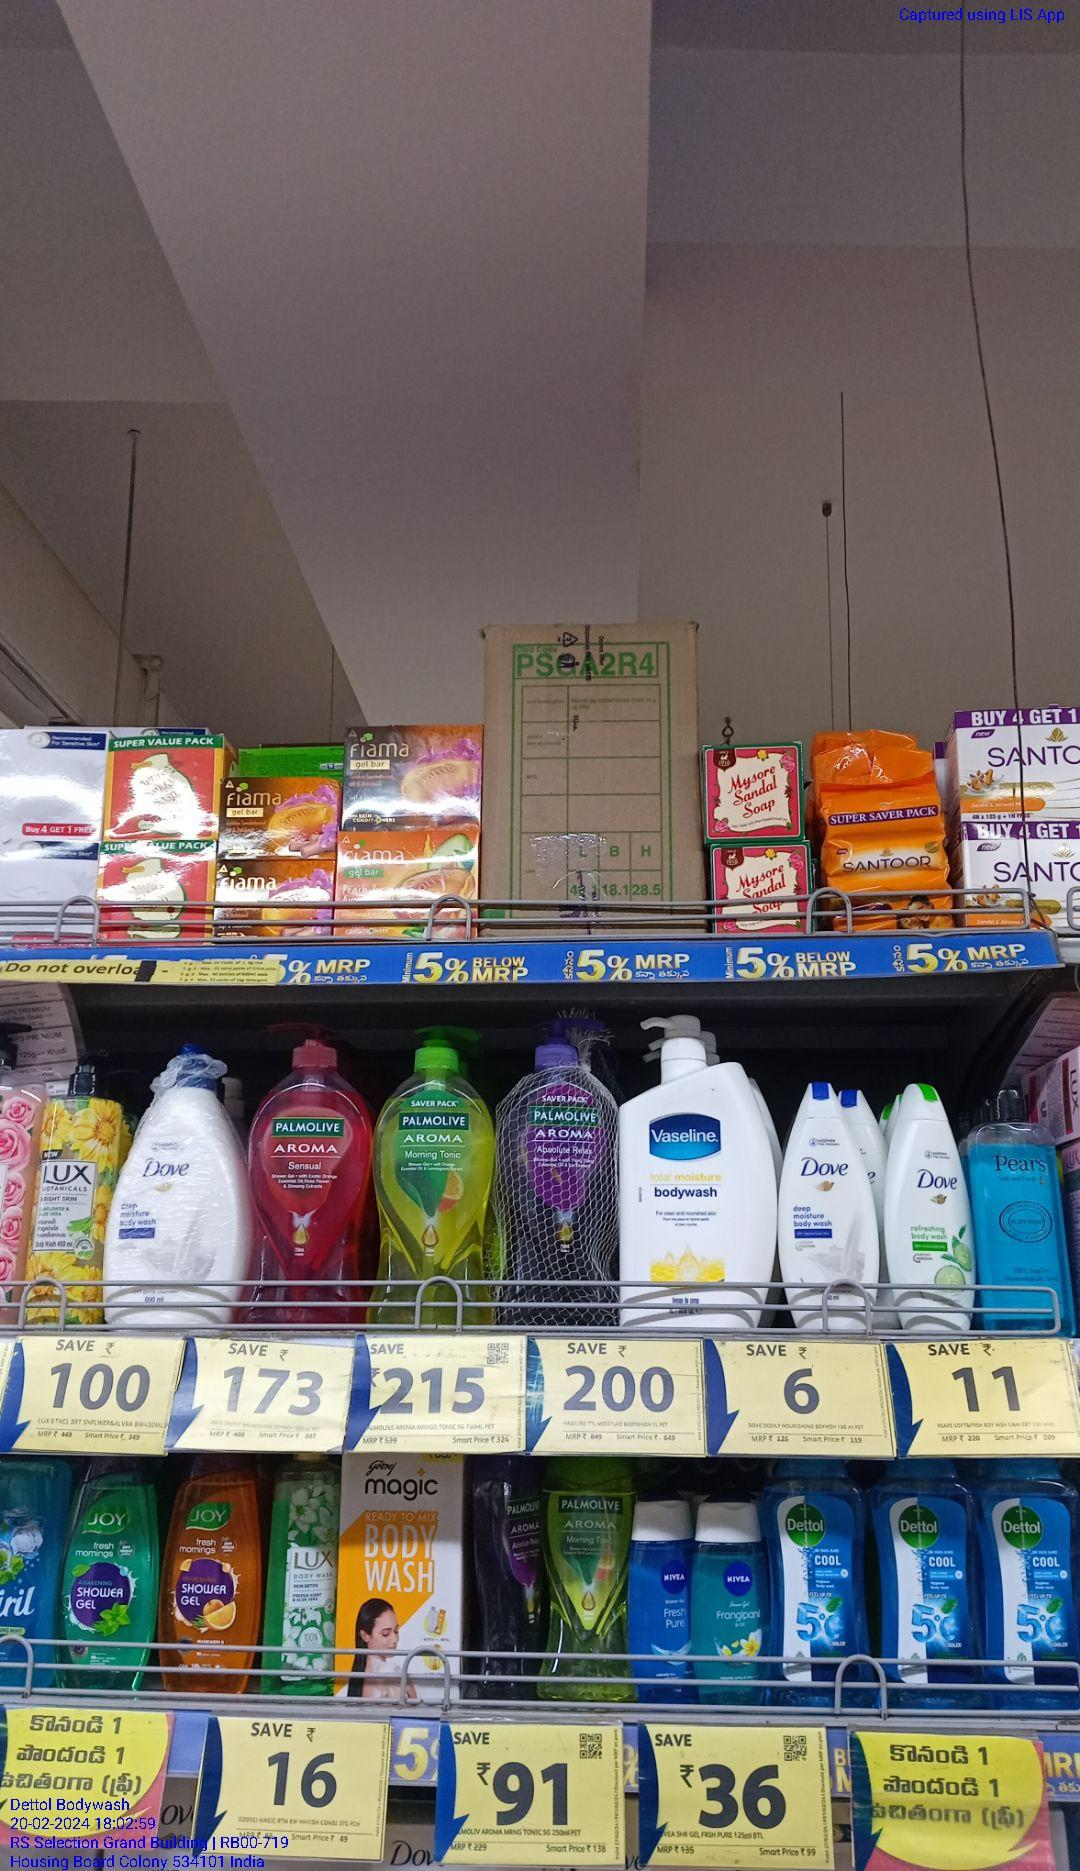Dettol_Bodywash_Cool: (770, 1456, 877, 1710), (883, 1461, 984, 1712), (990, 1459, 1080, 1718)
Dove_Deep_Moisture_Body_Wash_250ML: (779, 1082, 877, 1335)
Dove_Refreshing_Body_Wash_250ML: (885, 1079, 980, 1331)
Joy_Shower_Gel_Mandarin_and_Lemongrass_250ML: (158, 1453, 264, 1691)
Joy_Shower_Gel_Mint_and_Eucalyptus_250ML: (59, 1451, 156, 1700)
Lux_Body_Wash_Skin_Detox_Freesia_Scent_and_Alove_Vera_245ML: (269, 1452, 333, 1696)
Palmolive_Aroma_Morning_Tonic_Shower_Gel_250ML: (543, 1456, 633, 1704)
Pears_Pure_Glycerin_and_Mint_Extracts_Body_Wash_250ML: (986, 1070, 1077, 1334)
